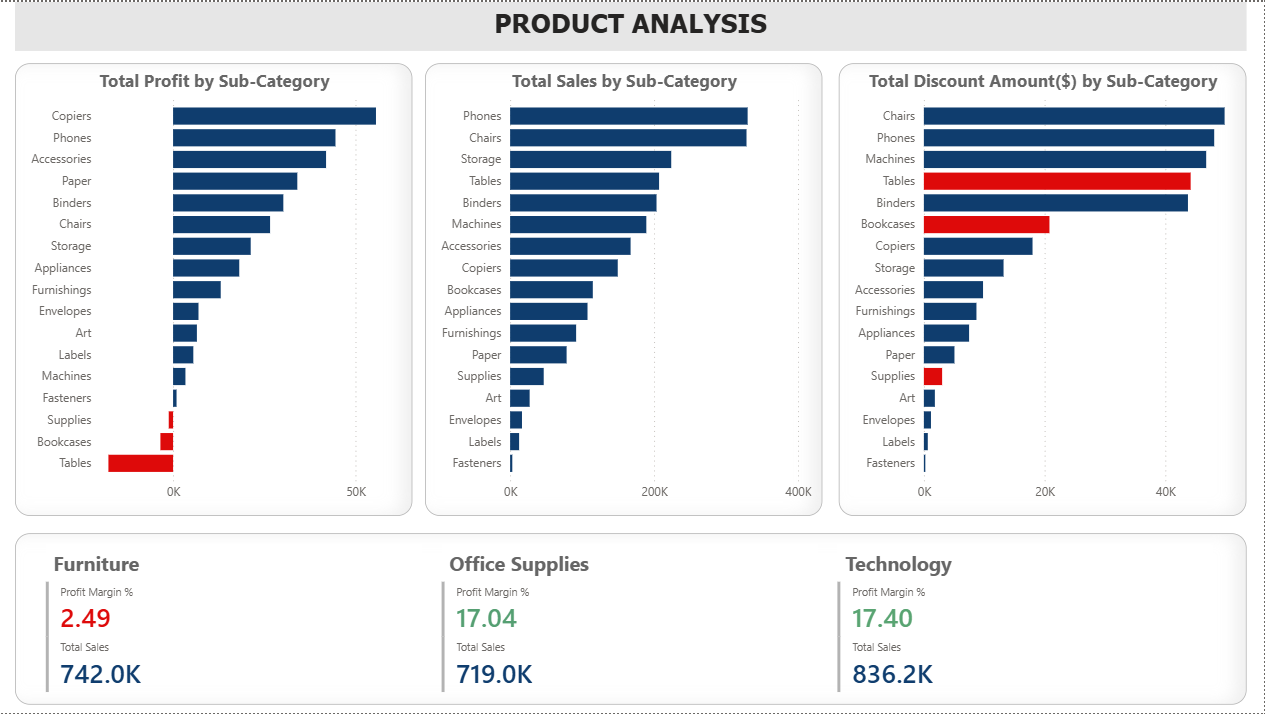

The page's visual inventory and layout, read from the dashboard file:
{"tool":"powerbi","page":{"name":"Products","canvas":[1280,720],"ordinal":1},"visuals":[{"type":"clusteredBarChart","title":"Total Profit by Sub-Category","fields":{"Category":["sales_data.Sub-Category"],"Y":["sales_data.Total Profit"]},"box":[15.2,62,402.5,458.2],"z":0},{"type":"clusteredBarChart","title":"Total Sales by Sub-Category","fields":{"Category":["sales_data.Sub-Category"],"Y":["sales_data.Total Sales"]},"box":[430.4,62,402.5,458.2],"z":1000},{"type":"cardVisual","fields":{"Data":["sales_data.Profit Margin %","sales_data.Total Sales"],"Rows":["sales_data.Category"]},"box":[15.2,538,1246.8,173.4],"z":2000},{"type":"textbox","box":[15.2,0,1246.8,49.4],"z":3000},{"type":"clusteredBarChart","title":"Total Discount Amount($) by Sub-Category","fields":{"Category":["sales_data.Sub-Category"],"Y":["sales_data.Total Discount"]},"box":[849.4,62,412.7,458.2],"z":4000}]}

Visuals, with their boxes in screenshot pixels (x1, y1, x2, y2), scaled from the page's 1280x720 canvas onto the 1265x714 screenshot:
"Total Profit by Sub-Category" clusteredBarChart: left=15, top=61, right=413, bottom=516
"Total Sales by Sub-Category" clusteredBarChart: left=425, top=61, right=823, bottom=516
cardVisual - sales_data.Profit Margin % x sales_data.Total Sales: left=15, top=534, right=1247, bottom=705
textbox: left=15, top=0, right=1247, bottom=49
"Total Discount Amount($) by Sub-Category" clusteredBarChart: left=839, top=61, right=1247, bottom=516
